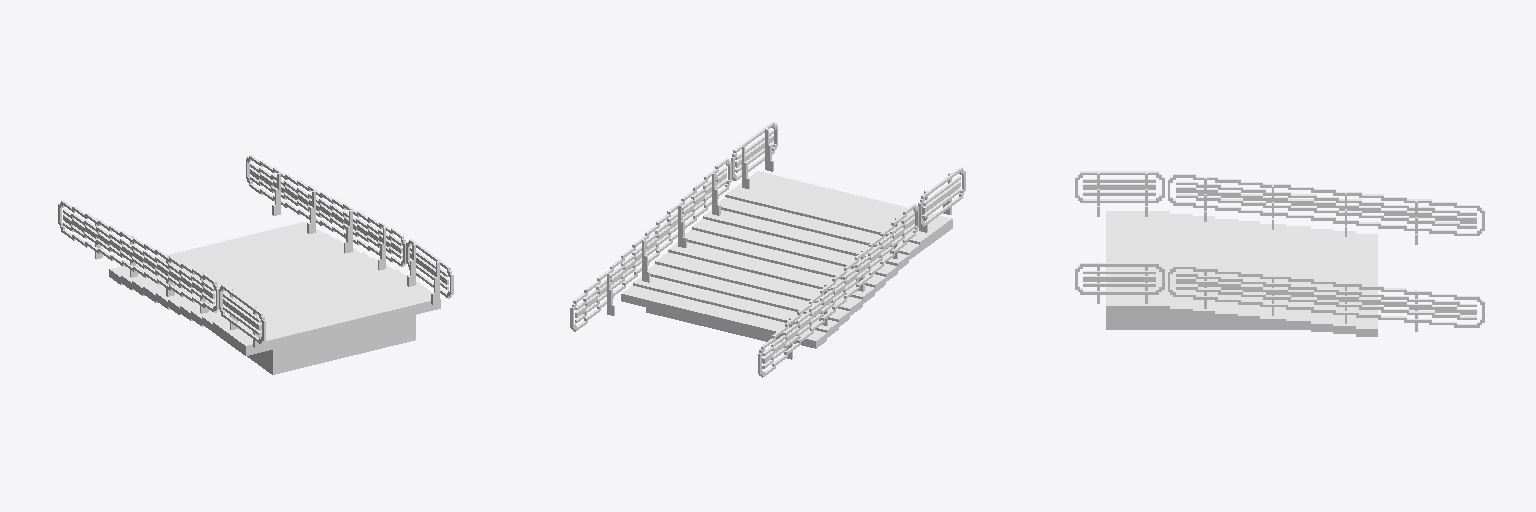
The model's file is Estación_3.obj.
3 views of the same model, side by side, from view 1: azimuth 30°, elevation 25°; view 2: azimuth 150°, elevation 25°; view 3: azimuth 270°, elevation 25° (orthographic).
Visible parts, largest first — view 1: object 1; view 2: object 1; view 3: object 1.
Part boxes in pixels (x1,y1,x2,y2): object 1: (58, 155, 453, 374); object 1: (570, 122, 965, 377); object 1: (1075, 171, 1484, 336).
Size of the model in its own units: 8 by 3 by 14.6.